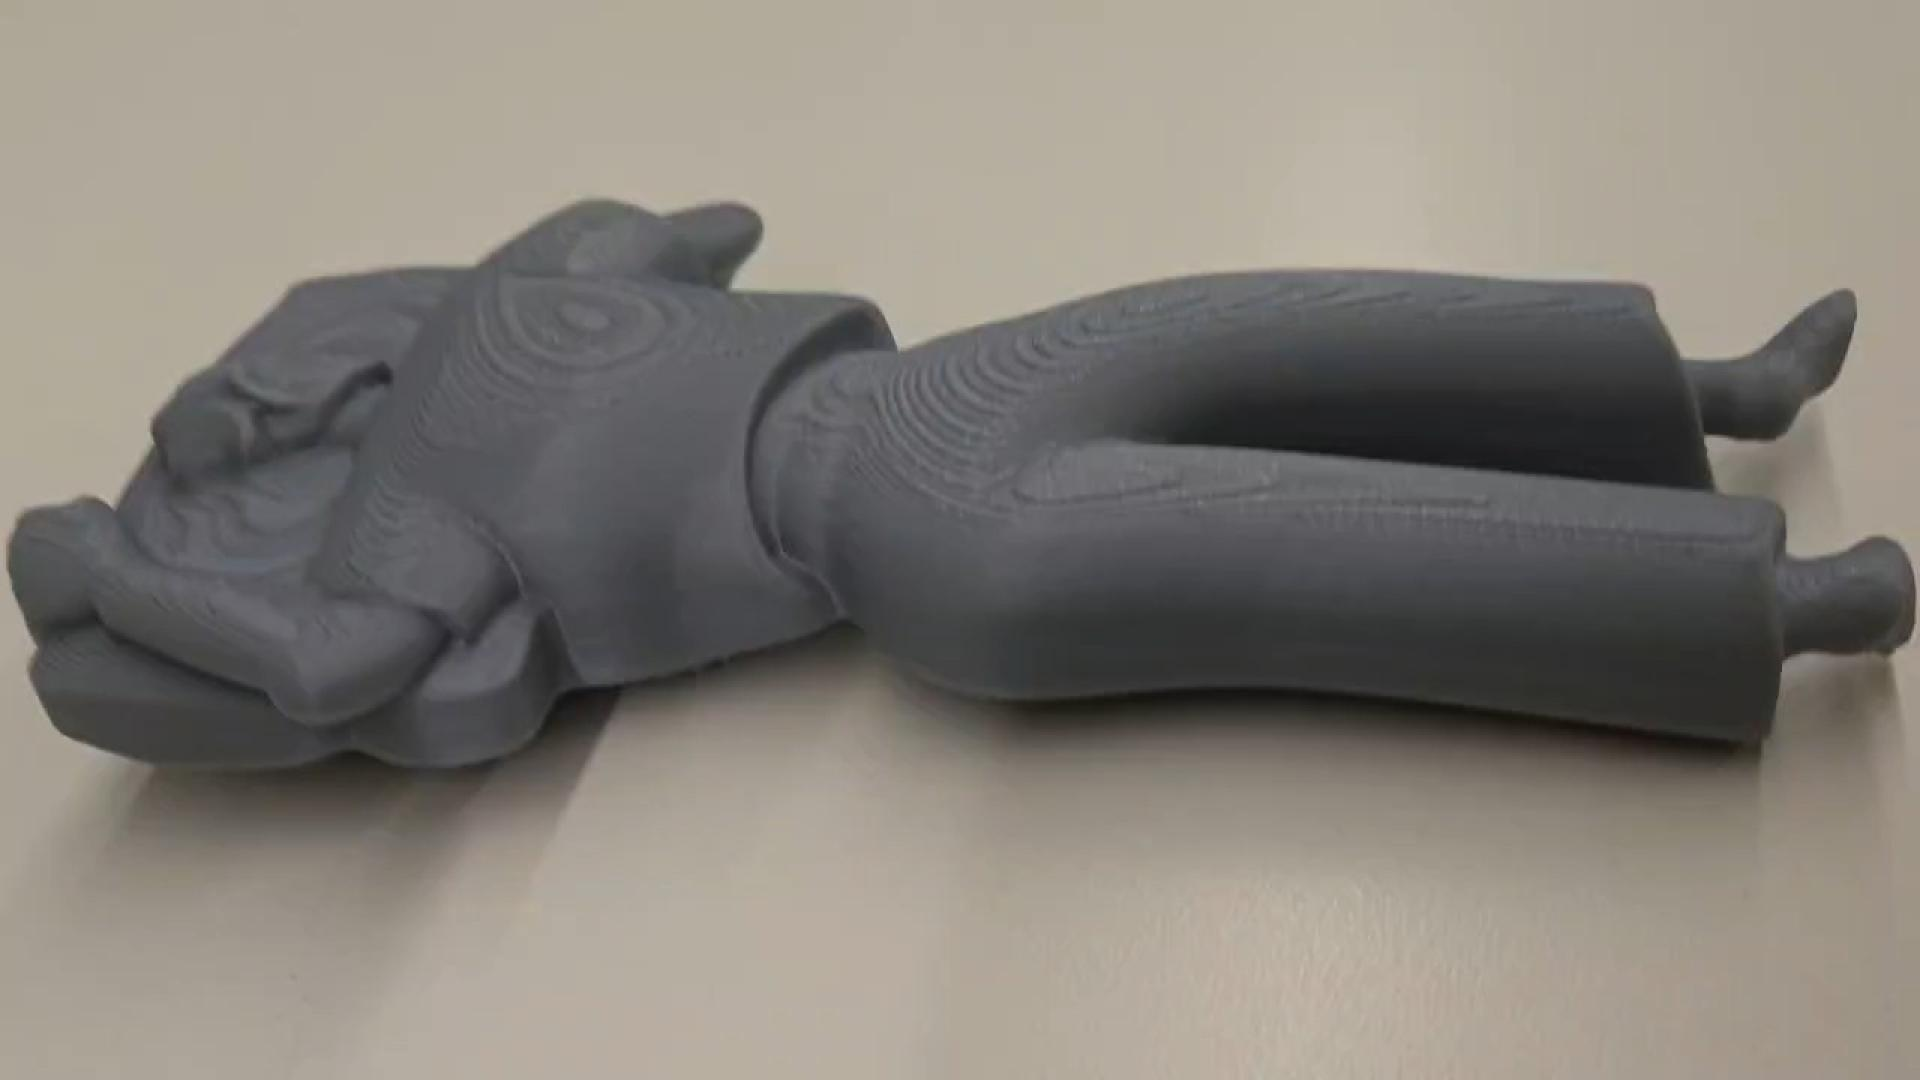Bad-style: (3, 193, 1920, 799)
